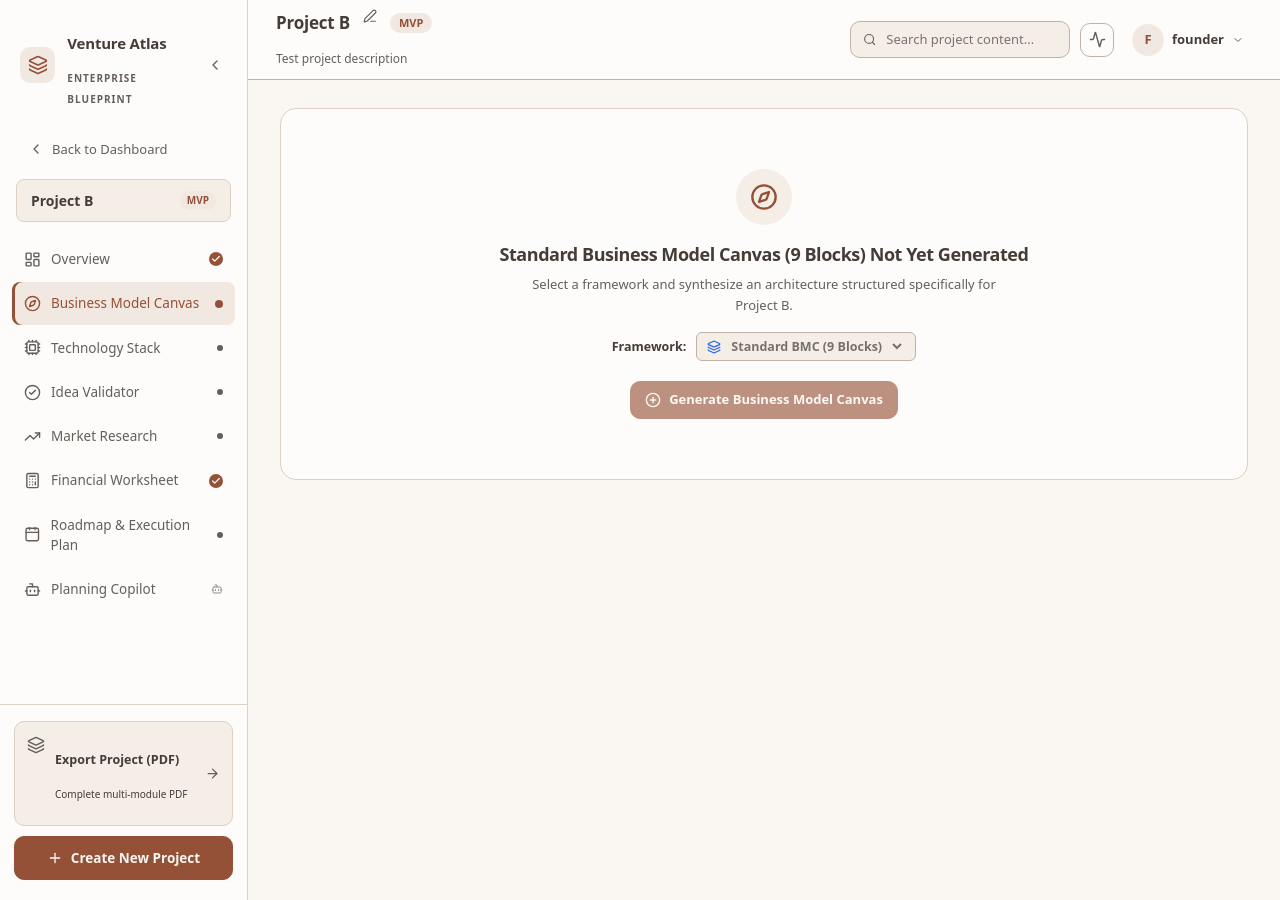
Test: Batch 03.1 — Live Validation Fixes Regression Suite › 1. Module Restoration & Portfolio Flash Prevention › leaving for portfolio while B is pending prevents late completion from reopening B
// User leaves for portfolio by clicking Back to Dashboard
Click the button with class "back-to-dashboard-btn" at (124, 149), box left=16, top=132, right=231, bottom=167
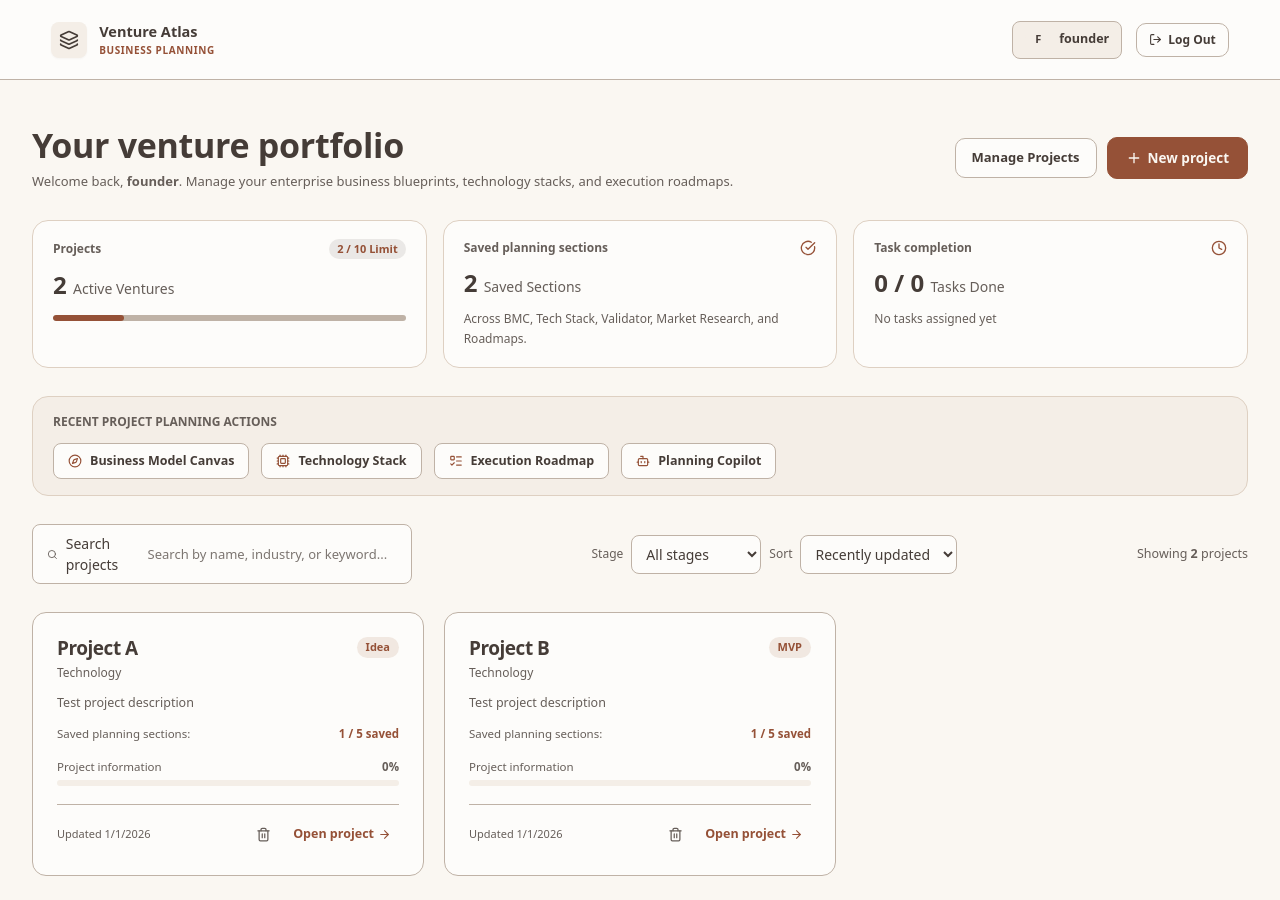
Result: the heading "Your venture portfolio" is shown at left=32, top=122, right=404, bottom=168
Result: the element with class "workspace-scroll-area" is gone
